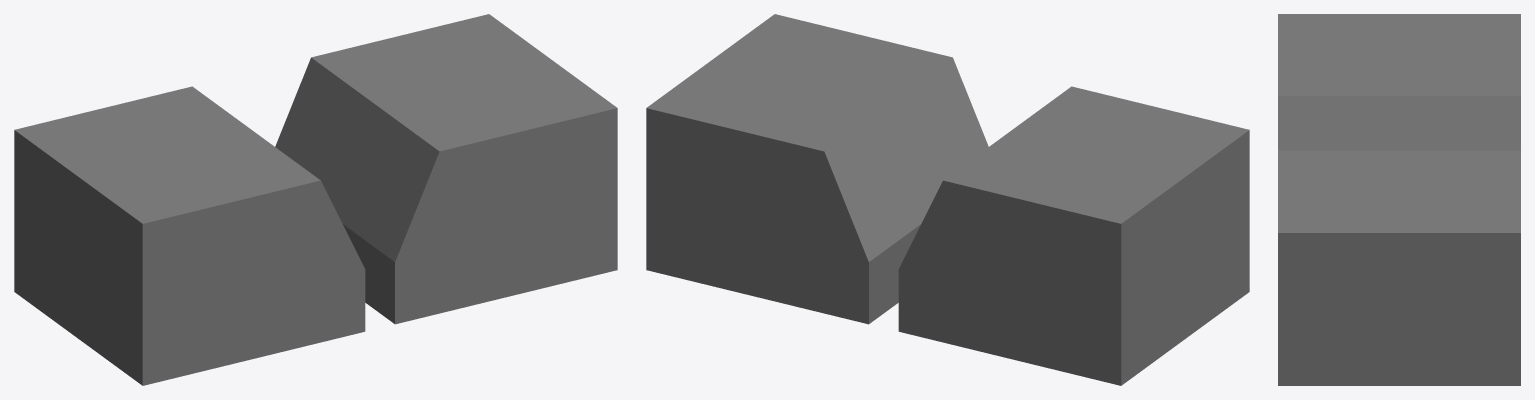
File: С45_Кромки.glb
The picture shows the model from 3 angles, left to right: view 1: azimuth 30°, elevation 25°; view 2: azimuth 150°, elevation 25°; view 3: azimuth 270°, elevation 25°; orthographic projection. The views are drawn at different scales.
Visible parts, largest first — view 1: node_id3; view 2: node_id3; view 3: node_id3.
Part boxes in pixels (bbox=[...]): node_id3: bbox=[14, 14, 617, 385]; node_id3: bbox=[646, 14, 1249, 385]; node_id3: bbox=[1278, 14, 1520, 385].
Size of the model in its own units: 0.512 by 0.1669 by 0.24.
Materials: 1 (1 with a texture image).
